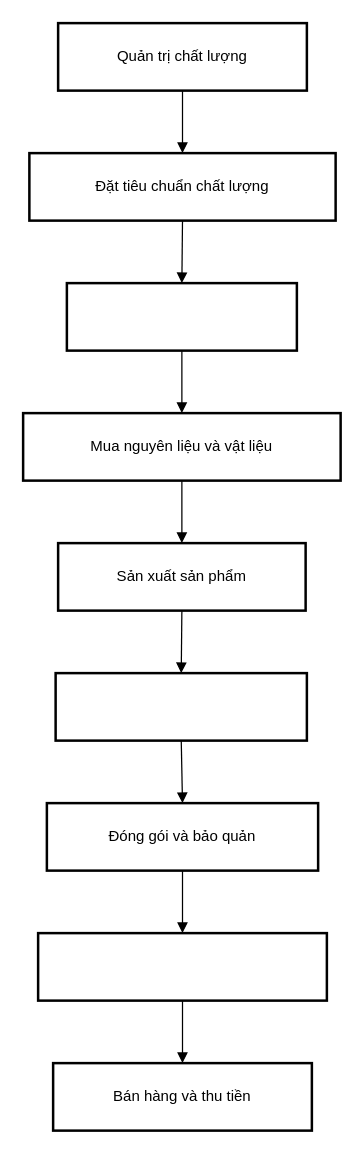
The diagram is 363 pixels wide and 1153 high, and some of its shapes have lost their labels. The shapes that lost their labels are listed below. From the top down, each one's centre as x and y in pixels, then its label:
(x=181, y=316): Thiết kế quy trình
(x=181, y=706): Kiểm tra chất lượng
(x=182, y=966): Xuất kho và vận chuyển
